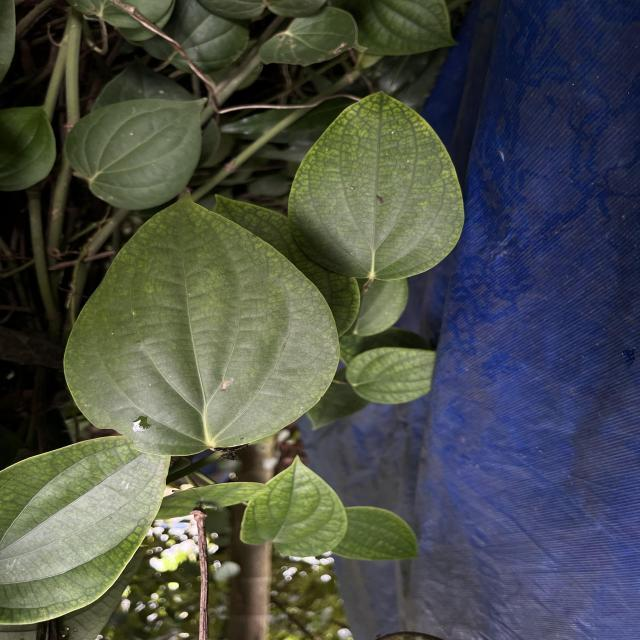Piper nigrum: (61, 190, 342, 458), (286, 88, 466, 282)
